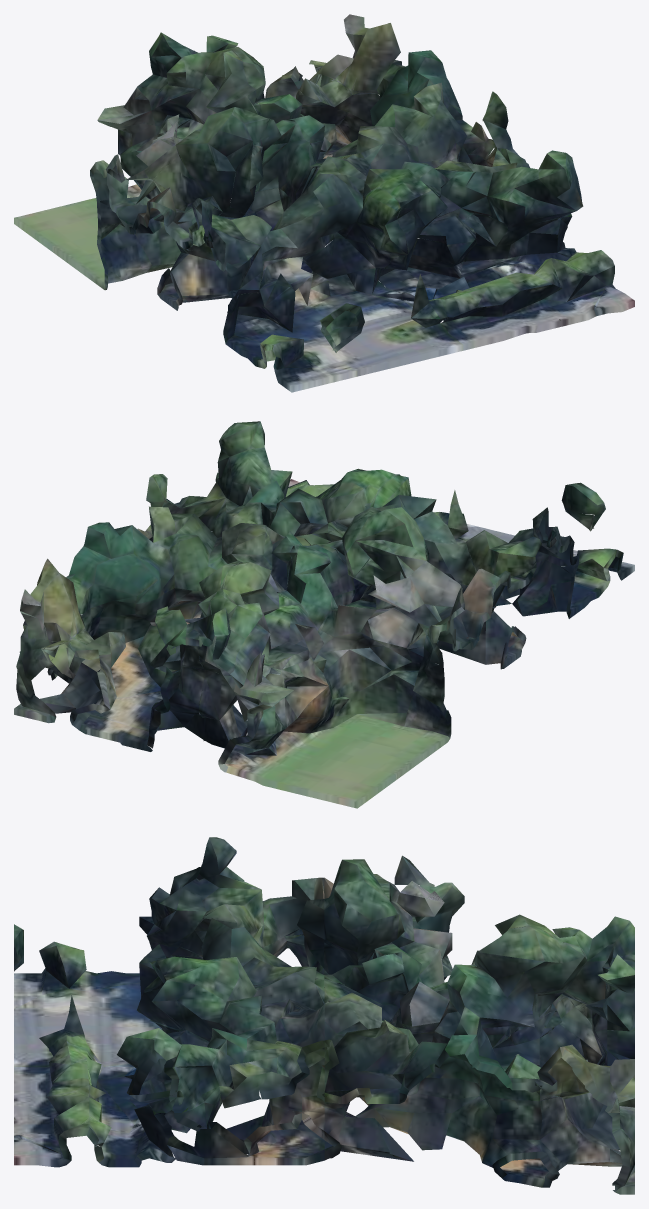
3 views of the same model, one above another, from view 1: azimuth 30°, elevation 25°; view 2: azimuth 150°, elevation 25°; view 3: azimuth 270°, elevation 25° (orthographic). The views are drawn at different scales.
Parts seen in each view (by area): view 1: 3043627270436153461_0; view 2: 3043627270436153461_0; view 3: 3043627270436153461_0.
Boxes of the visible parts, x1,y1,x2,y2 form: 3043627270436153461_0: (14,14,634,392); 3043627270436153461_0: (14,421,634,808); 3043627270436153461_0: (14,837,634,1194).
Bounding box in the file's own units: 54.63 × 28.04 × 76.52.
1 material, 1 textured.
